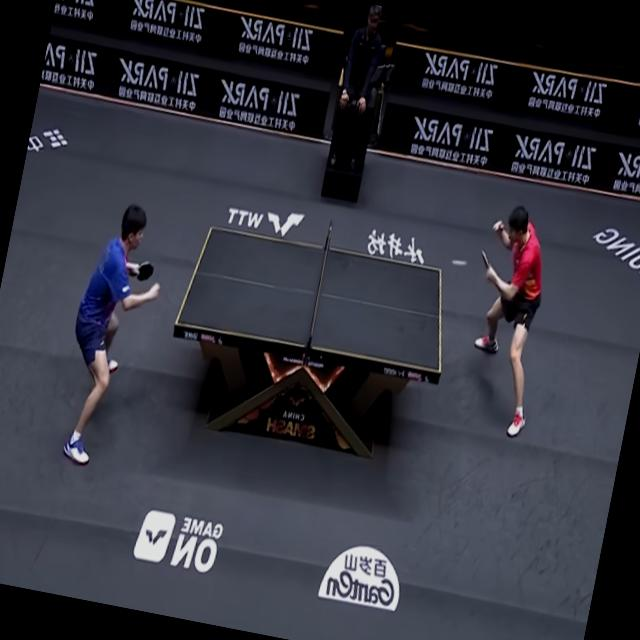TT Net: (305, 216, 336, 355)
TT Racket: (134, 258, 157, 287), (476, 246, 494, 272)
TT Table: (175, 222, 459, 373)
